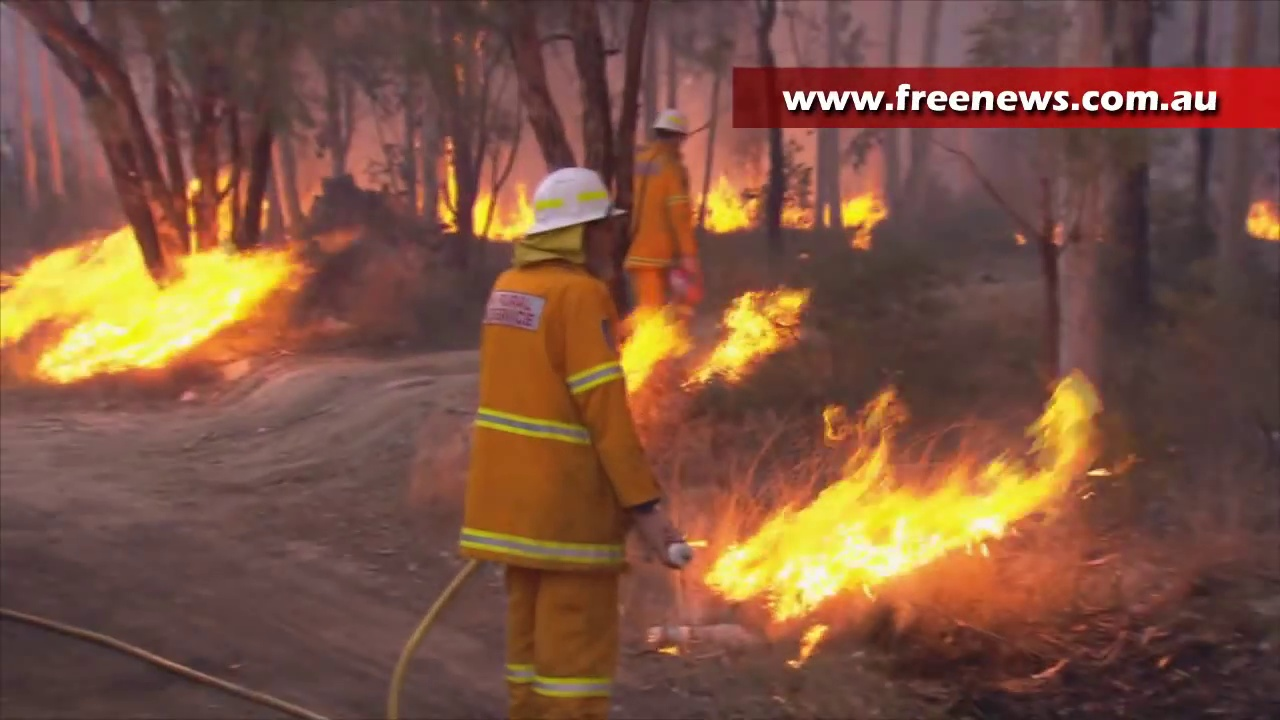fire: (705, 370, 1100, 618), (1, 166, 294, 380), (690, 290, 803, 382), (619, 301, 685, 387), (472, 185, 532, 243), (704, 182, 750, 230), (843, 193, 884, 243), (1249, 196, 1280, 239)
